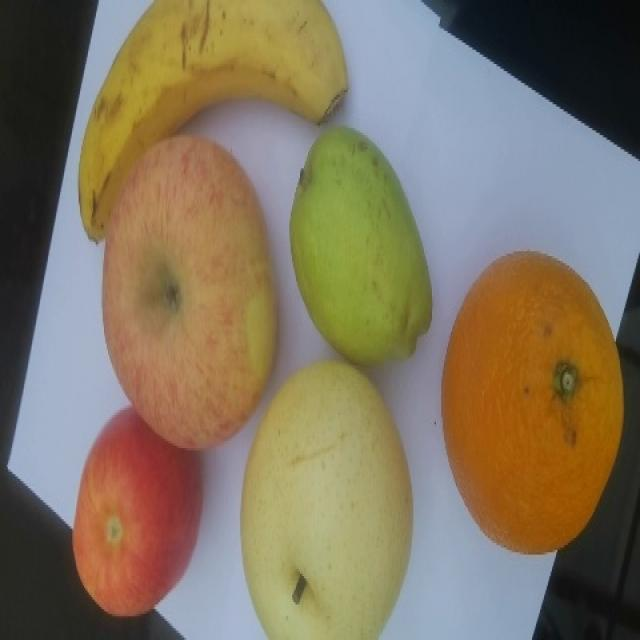Apple: (101, 134, 278, 451), (71, 405, 203, 618)
Banana: (77, 0, 348, 244)
Orange: (440, 248, 624, 554)
